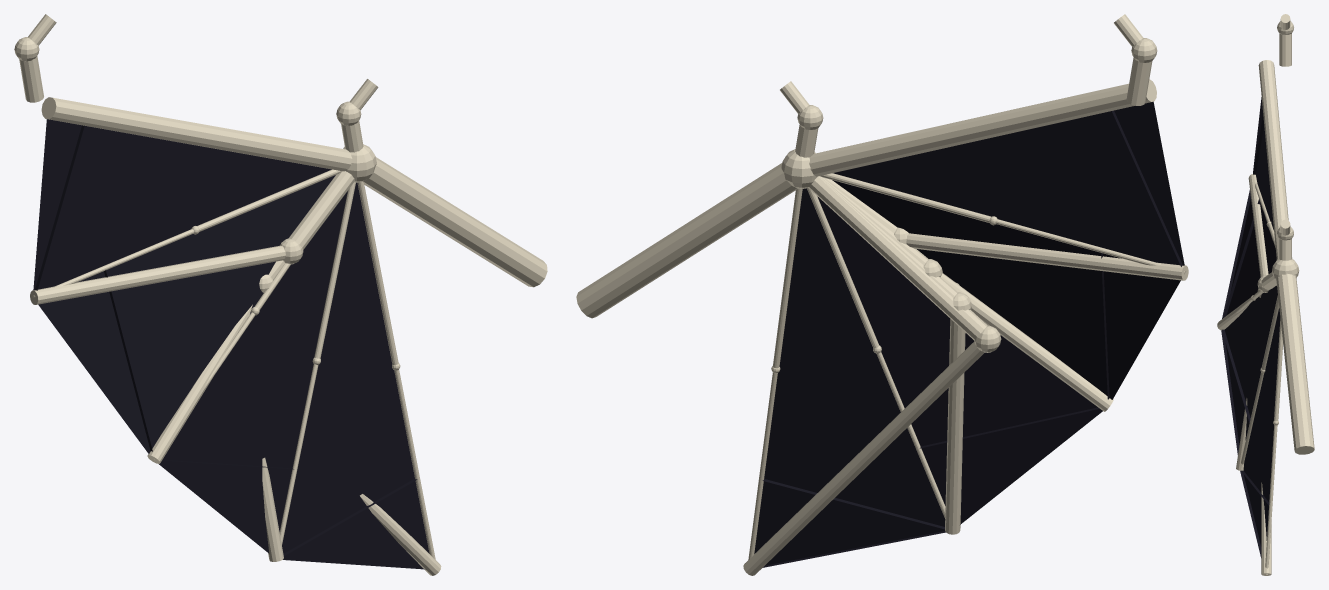
The model's file is BoneWingLeft.obj.
The picture shows the model from 3 angles, left to right: view 1: azimuth 30°, elevation 25°; view 2: azimuth 150°, elevation 25°; view 3: azimuth 270°, elevation 25°; orthographic projection. The views are drawn at different scales.
Parts seen in each view (by area): view 1: BoneWingLeft; view 2: BoneWingLeft; view 3: BoneWingLeft.
Boxes of the visible parts, x1,y1,x2,y2 form: BoneWingLeft: (14,14,547,575); BoneWingLeft: (576,14,1188,575); BoneWingLeft: (1217,14,1314,575).
Bounding box in the file's own units: 6.81 × 7.61 × 1.53.
